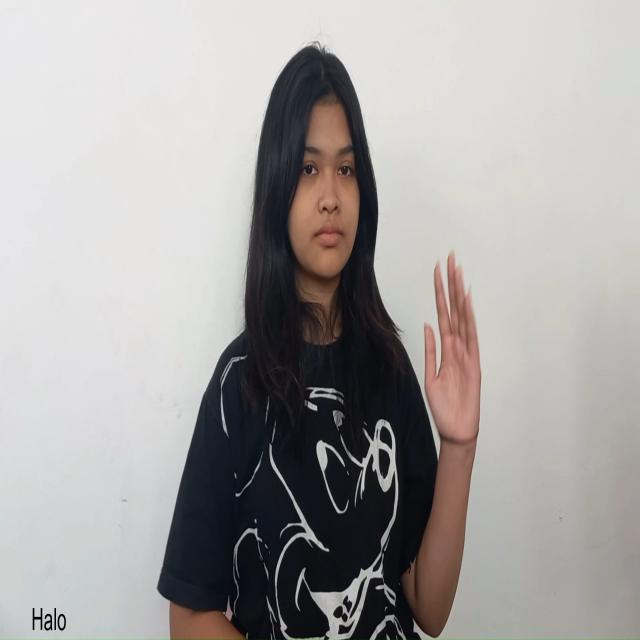Halo -BISINDO-: (424, 250, 482, 458)
